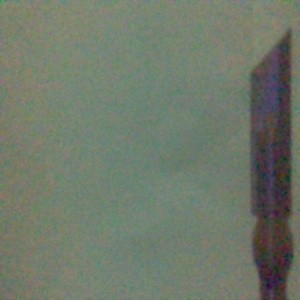cutter: (249, 26, 296, 300)
